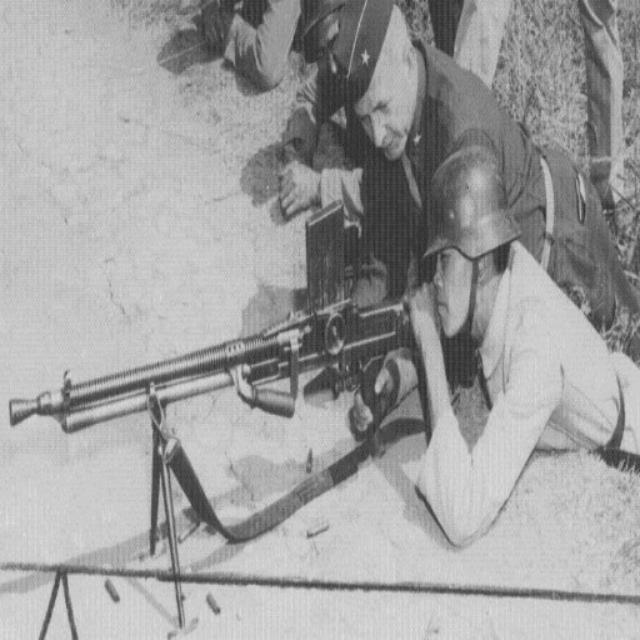other: (420, 160, 640, 480), (350, 4, 606, 226), (283, 0, 345, 206)
